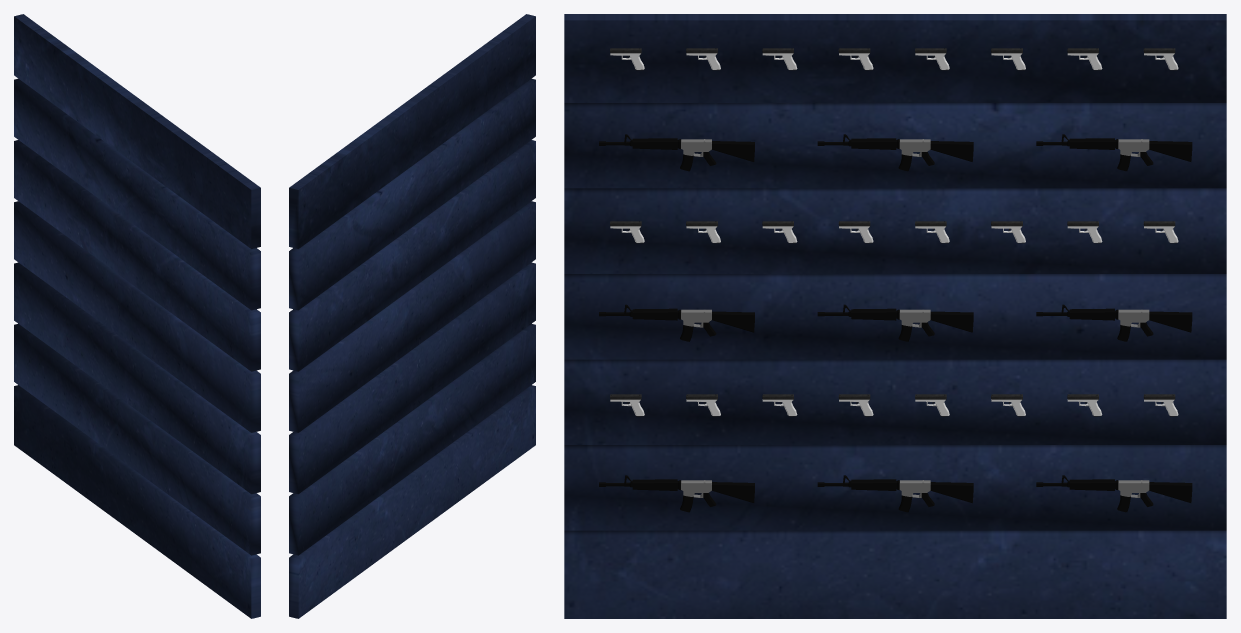
Rendered from weaponsWallGuns.fbx.
3 renders of one model, left to right at view 1: azimuth 30°, elevation 25°; view 2: azimuth 150°, elevation 25°; view 3: azimuth 270°, elevation 25°, orthographic. The views are drawn at different scales.
Visible parts, largest first — view 1: Cube.003; view 2: Cube.003; view 3: Cube.003, Cube.007.
Boxes of the visible parts, x1,y1,x2,y2 form: Cube.003: [14, 14, 260, 618]; Cube.003: [289, 14, 535, 618]; Cube.003: [564, 14, 1226, 618]; Cube.007: [610, 48, 1178, 416].
Size of the model in its own units: 13.87 by 399 by 400.
Materials: 6 (2 with a texture image).
